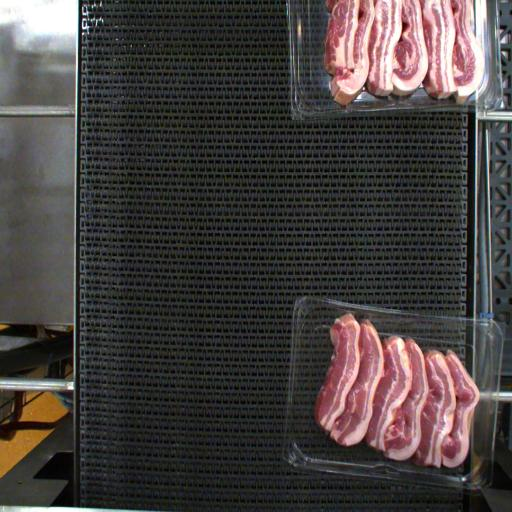packaging-error: (336, 307, 357, 317), (362, 310, 373, 326)
